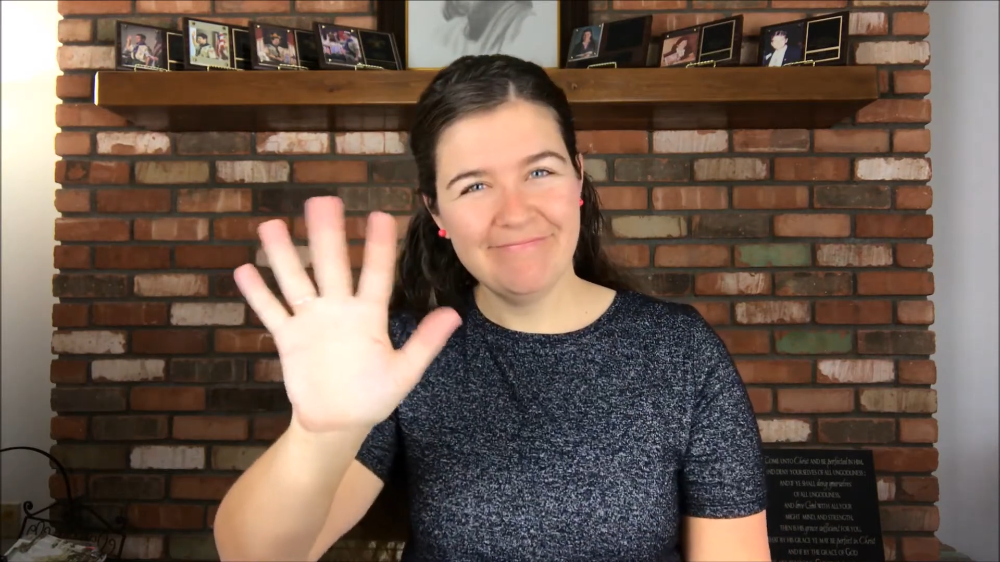hello: (233, 195, 466, 433)
